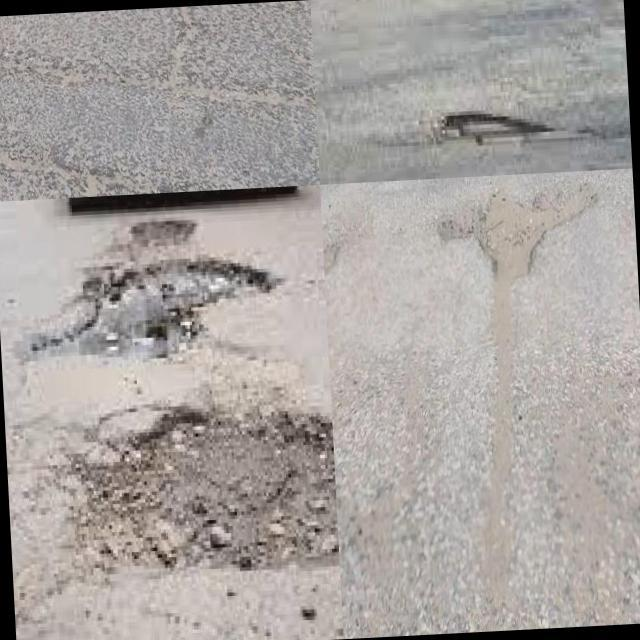Pothole: (84, 421, 339, 565), (33, 261, 267, 358), (470, 183, 547, 280), (530, 181, 594, 230), (440, 114, 543, 134), (322, 229, 337, 280)
